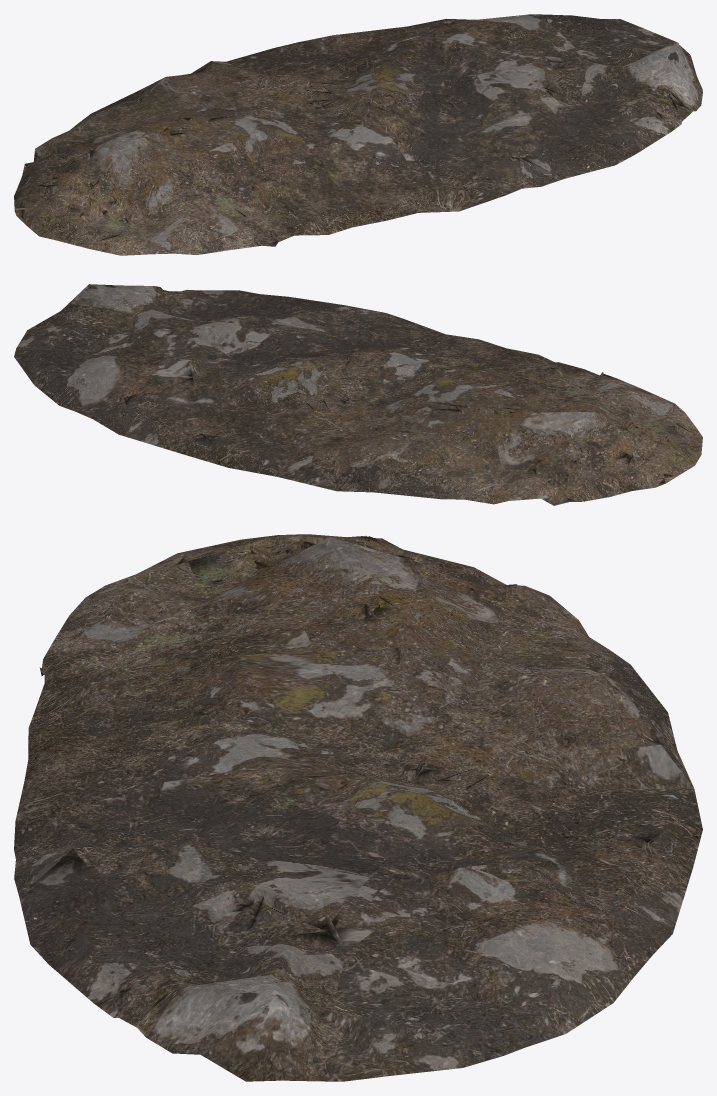
The model's file is moss_stone.glb.
3 renders of one model, top to bottom at view 1: azimuth 30°, elevation 25°; view 2: azimuth 150°, elevation 25°; view 3: azimuth 270°, elevation 25°, orthographic. The views are drawn at different scales.
Visible parts, largest first — view 1: Woodland moss_stone; view 2: Woodland moss_stone; view 3: Woodland moss_stone.
Boxes of the visible parts, bbox=[...] form: Woodland moss_stone: bbox=[14, 14, 702, 255]; Woodland moss_stone: bbox=[14, 284, 702, 505]; Woodland moss_stone: bbox=[14, 534, 702, 1081].
Bounding box in the file's own units: 4.03 × 0.3081 × 2.17.
Materials: 1 (1 with a texture image).
